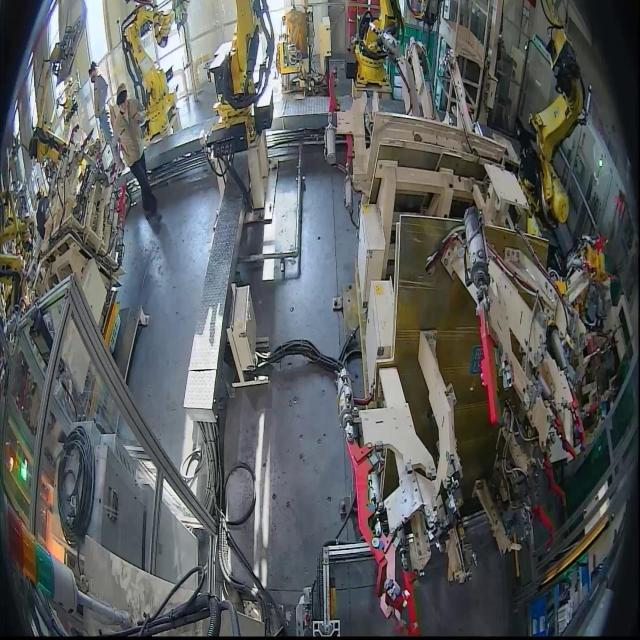Person: (110, 82, 162, 222), (84, 58, 114, 139)
